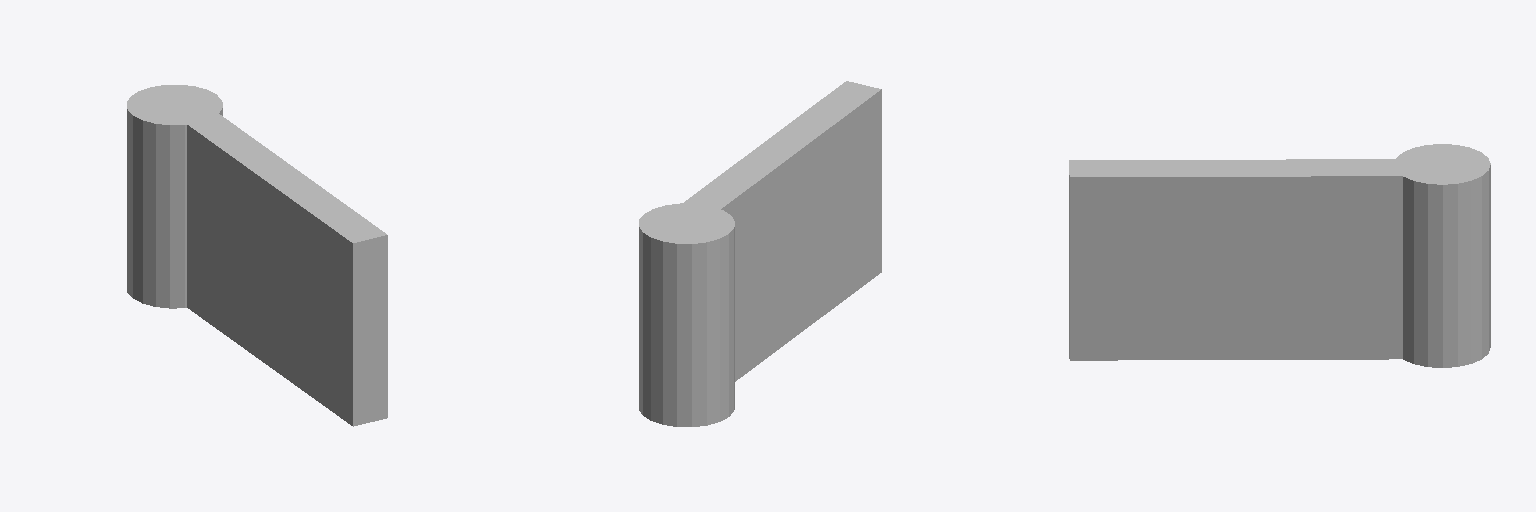
Rendered from Walls13.obj.
3 renders of one model, left to right at view 1: azimuth 30°, elevation 25°; view 2: azimuth 150°, elevation 25°; view 3: azimuth 270°, elevation 25°, orthographic.
Parts seen in each view (by area): view 1: polySurface66; view 2: polySurface66; view 3: polySurface66.
Boxes of the visible parts, x1,y1,x2,y2 form: polySurface66: [127, 85, 387, 426]; polySurface66: [639, 81, 881, 426]; polySurface66: [1069, 144, 1490, 367].
Size of the model in its own units: 2.4 by 5 by 10.42.